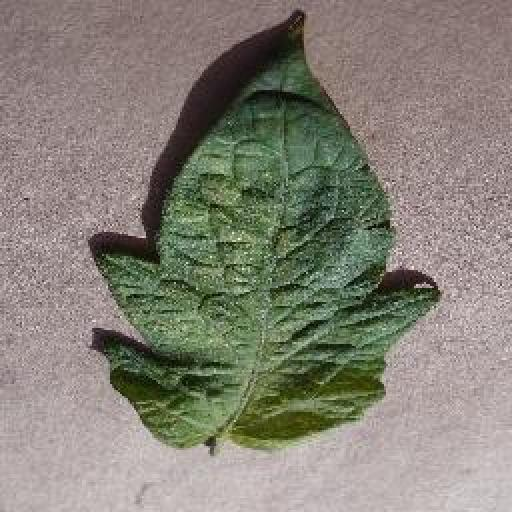disease_tomato: (94, 33, 442, 452)
